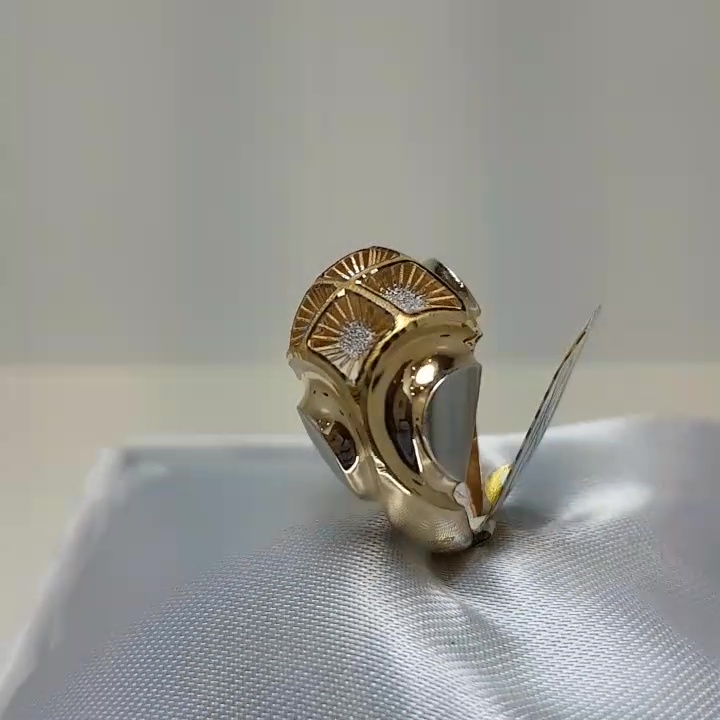Ring 2: (265, 221, 518, 564)
